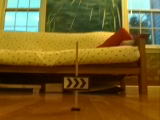right: (62, 76, 89, 89)
